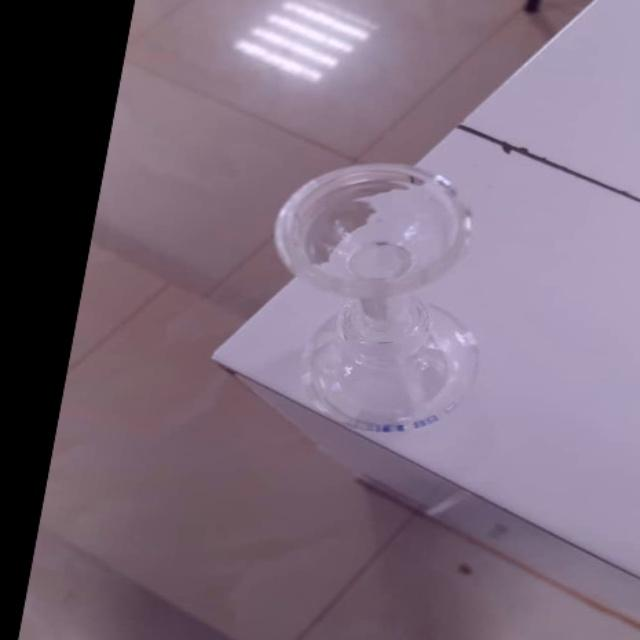Density Bottles for Solids: (220, 142, 527, 448)
